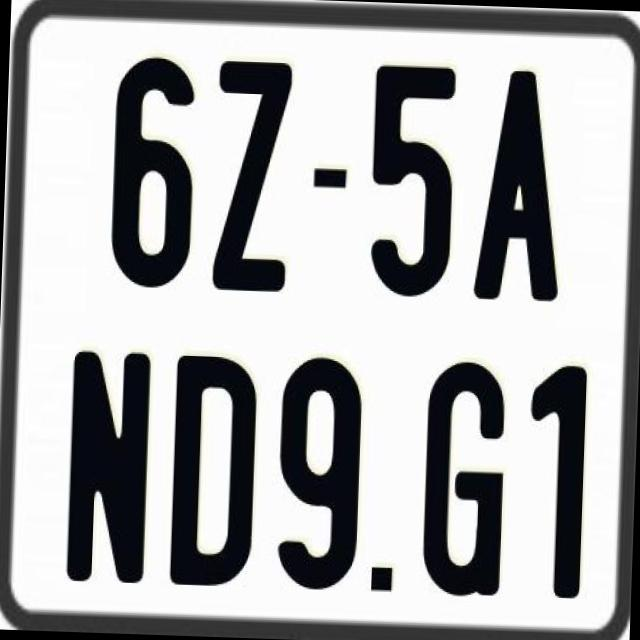1: (520, 360, 582, 598)
5: (366, 61, 461, 296)
6: (108, 53, 200, 287)
9: (270, 352, 362, 597)
A: (469, 68, 568, 306)
D: (168, 352, 263, 584)
G: (418, 357, 506, 603)
N: (64, 350, 154, 584)
Z: (208, 60, 294, 298)
